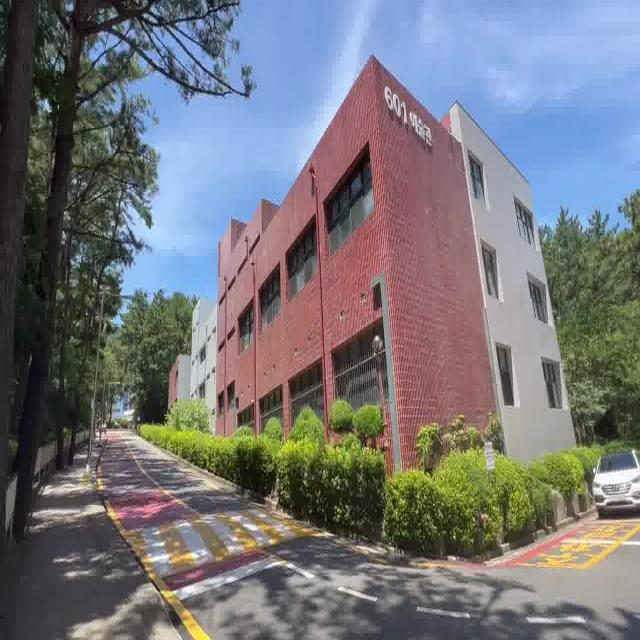building: (199, 84, 561, 426)
